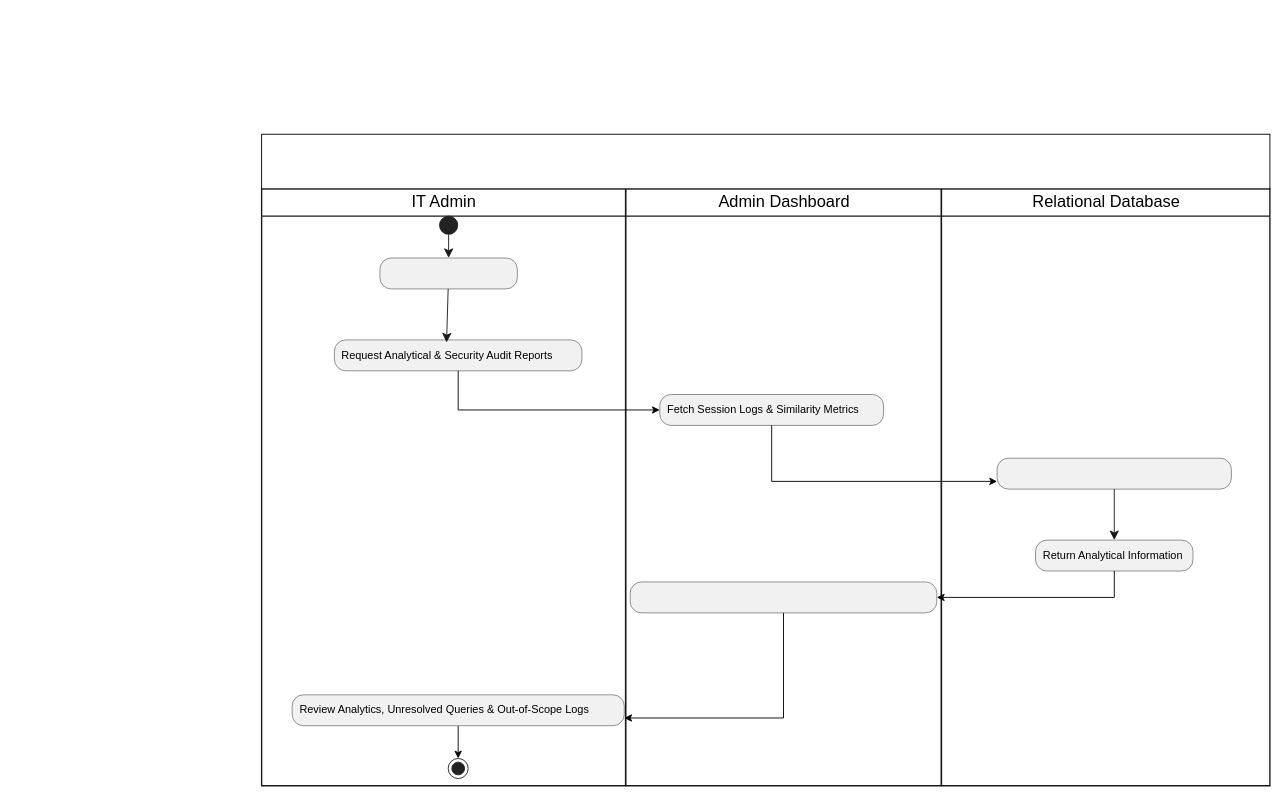
Some shapes in this 1286 by 802 pixel diagram are drawn without their labels. Here are the shapes that lost their labels. From the top down, the centre of each, then its label:
At (765,161): "IT Admin System Analytics".
At (448,273): "Log in to Admin Portal".
At (1113,473): "Query Evaluation Tables / LLM Summarization".
At (783,597): "Display Analytical Reports & Performance Info".
